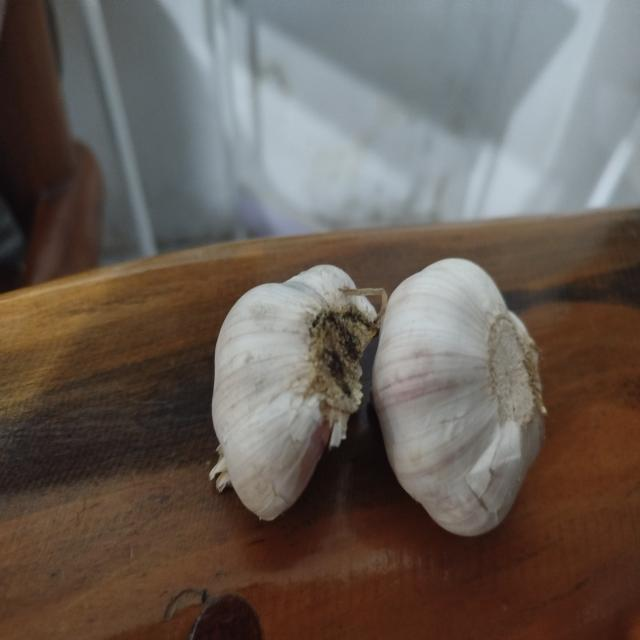garlic: (371, 256, 548, 538), (208, 263, 388, 522)
